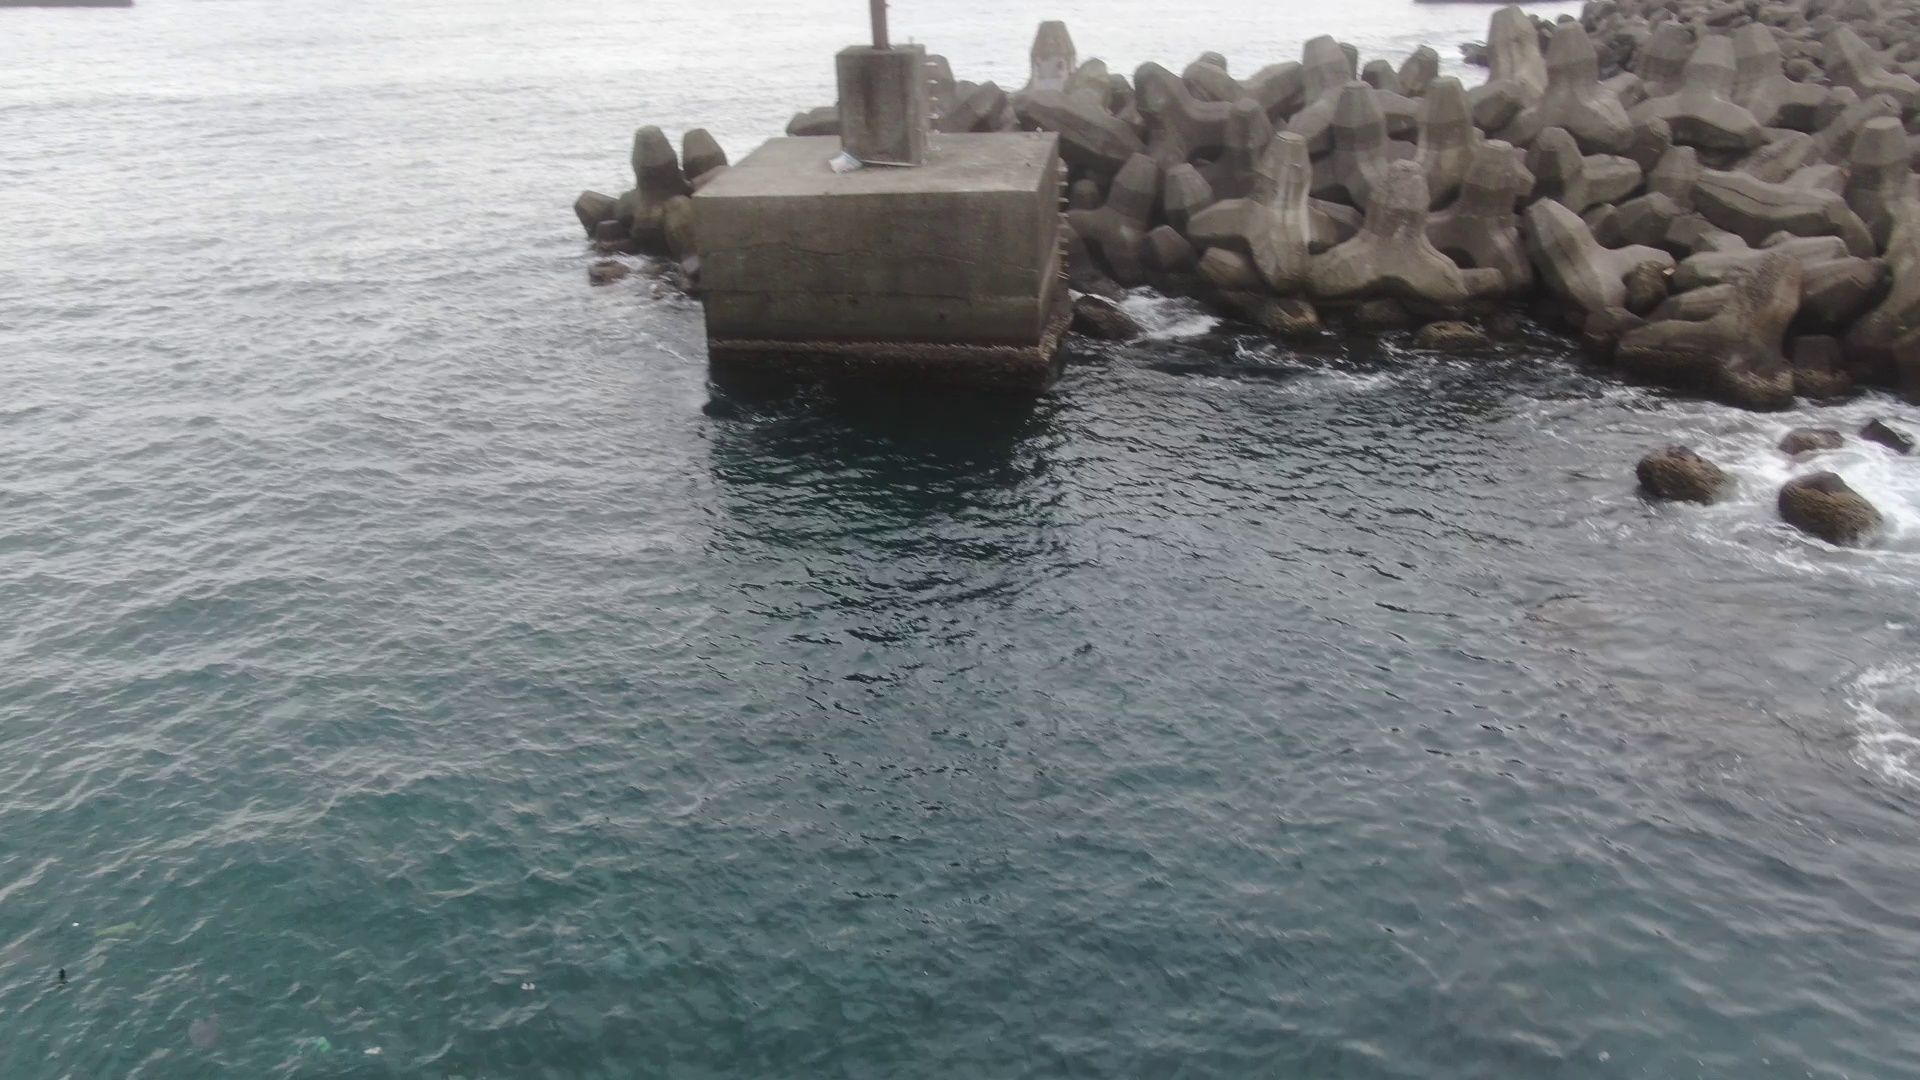garbage: (829, 152, 864, 175), (94, 922, 136, 934), (520, 981, 535, 990)
